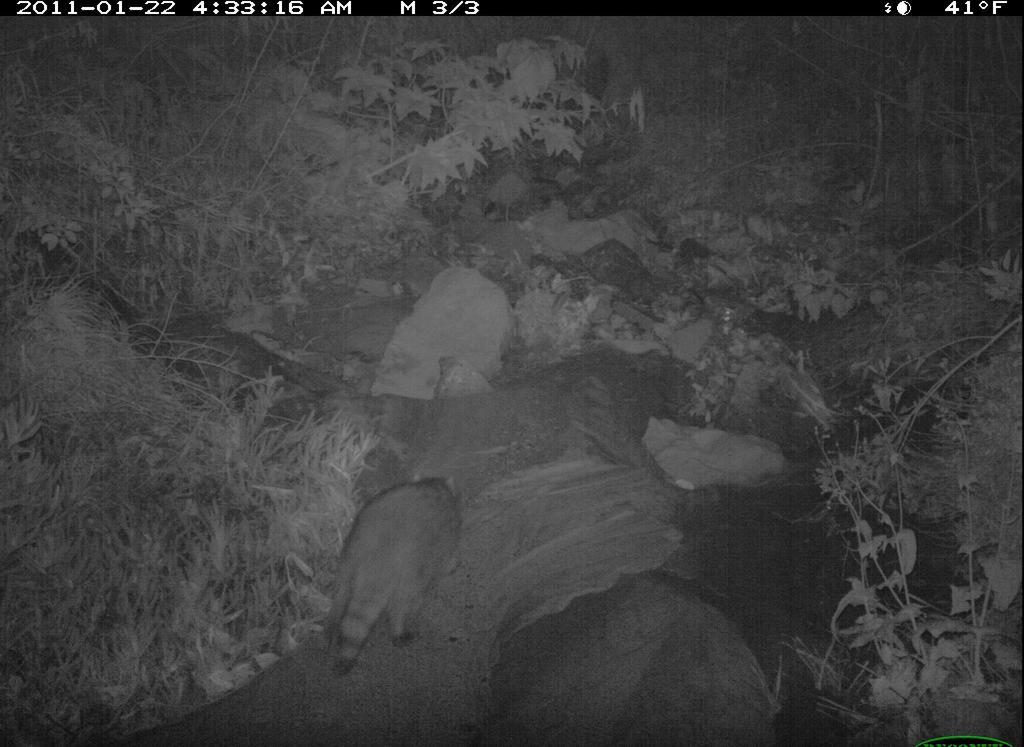raccoon: (323, 468, 472, 665)
